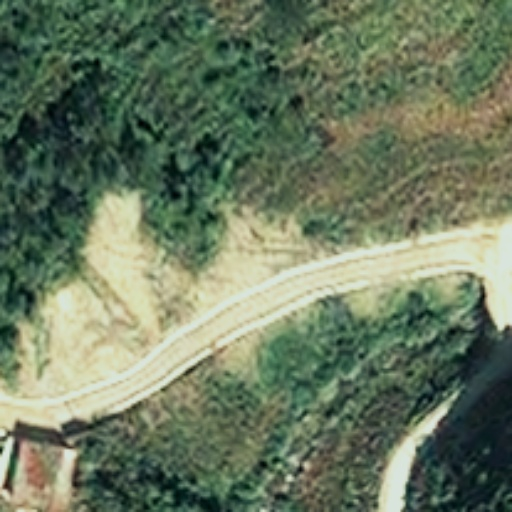landslide: (19, 190, 309, 393)
